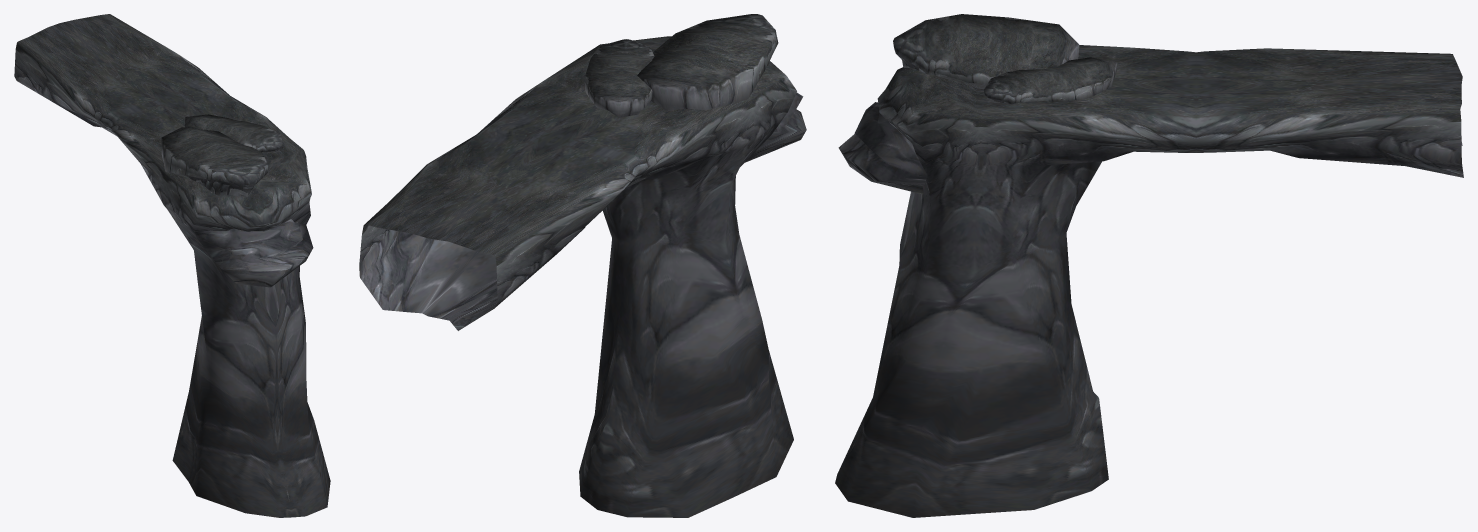
File: dragonblight_cliff_grey_05.obj
The picture shows the model from 3 angles, left to right: view 1: azimuth 30°, elevation 25°; view 2: azimuth 150°, elevation 25°; view 3: azimuth 270°, elevation 25°; orthographic projection. The views are drawn at different scales.
Parts seen in each view (by area): view 1: dragonblight_cliff_grey_05; view 2: dragonblight_cliff_grey_05; view 3: dragonblight_cliff_grey_05.
Boxes of the visible parts, x1,y1,x2,y2 form: dragonblight_cliff_grey_05: [14, 14, 330, 517]; dragonblight_cliff_grey_05: [359, 14, 806, 517]; dragonblight_cliff_grey_05: [835, 14, 1463, 517].
Bounding box in the file's own units: 44.93 × 102 × 135.
Materials: 1 (1 with a texture image).
